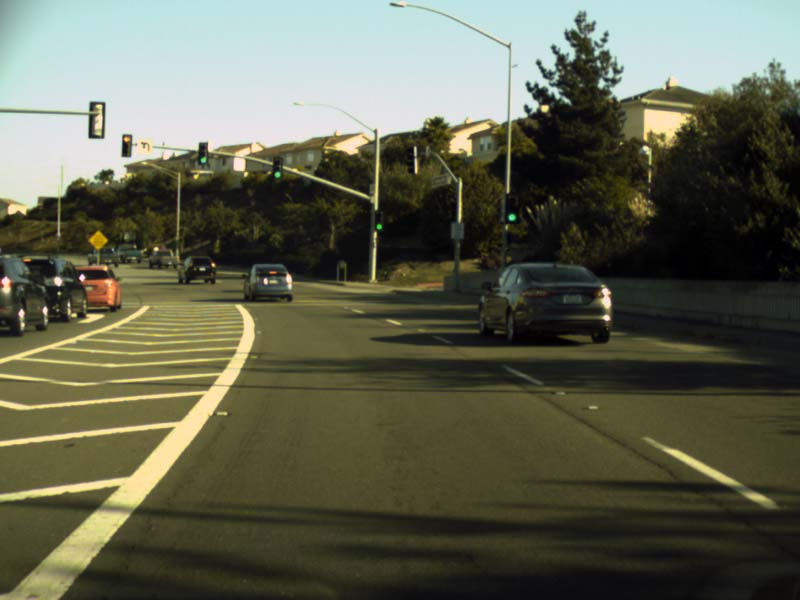Green: (505, 194, 519, 222), (272, 157, 281, 178), (198, 143, 207, 164), (374, 211, 383, 231)
Red: (122, 134, 130, 156)
